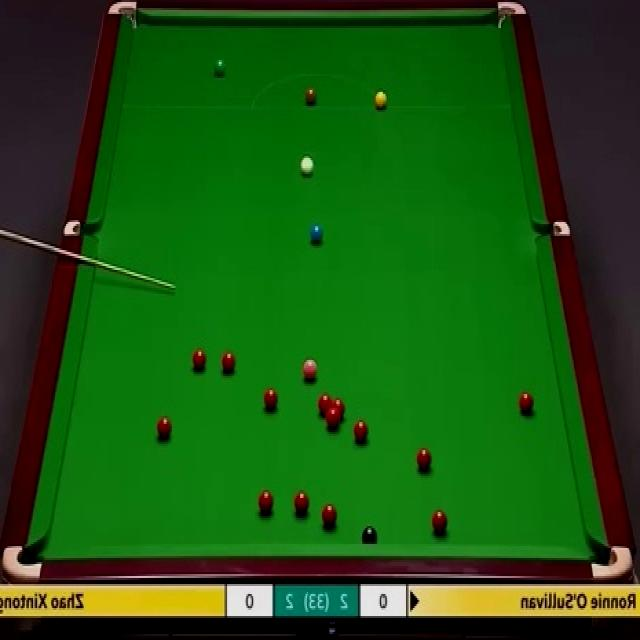black-ball: (361, 526, 378, 545)
blue-ball: (310, 220, 324, 245)
brown-ball: (305, 88, 317, 106)
green-ball: (213, 58, 228, 78)
pink-ball: (302, 354, 317, 382)
red-ball: (220, 349, 237, 378), (517, 389, 534, 416), (417, 446, 433, 473), (431, 509, 448, 534), (156, 418, 173, 443), (258, 489, 274, 515), (294, 491, 309, 516), (192, 349, 207, 374), (264, 387, 279, 412), (322, 503, 336, 528), (354, 419, 368, 443), (318, 394, 332, 418), (326, 410, 339, 430), (332, 398, 345, 418)
white-ball: (298, 151, 315, 179)
yellow-ball: (375, 89, 388, 109)
